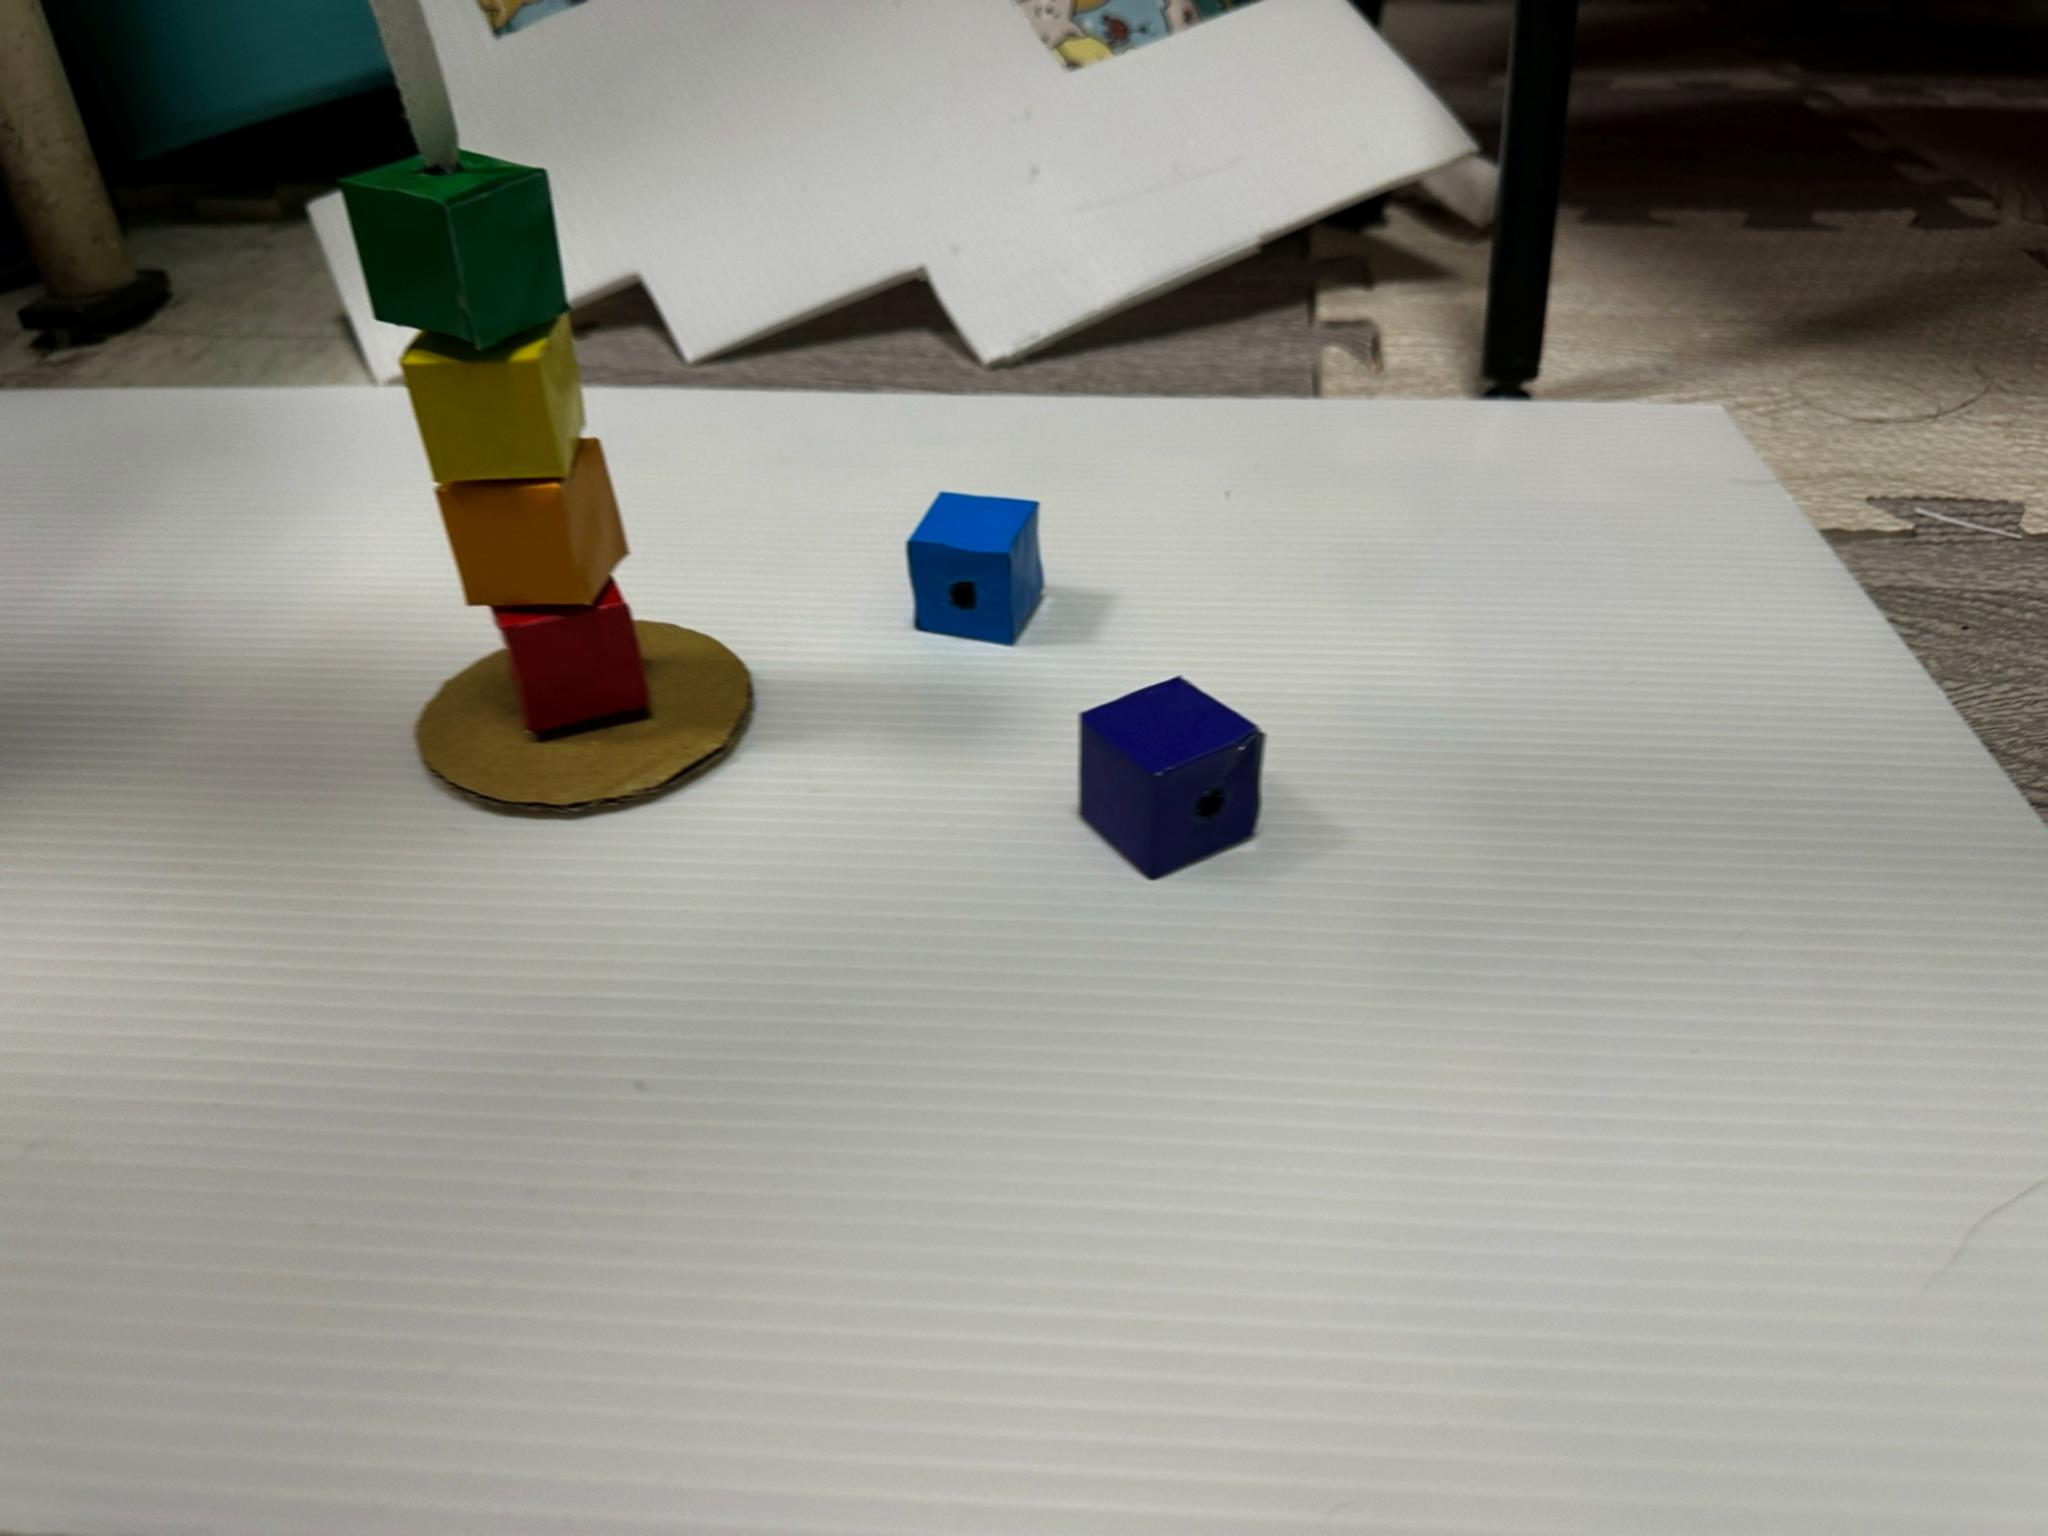base: (416, 621, 751, 807)
cube: (339, 150, 568, 350), (1080, 679, 1263, 878), (435, 439, 626, 605), (402, 313, 584, 484), (493, 581, 647, 737), (908, 494, 1042, 644)
